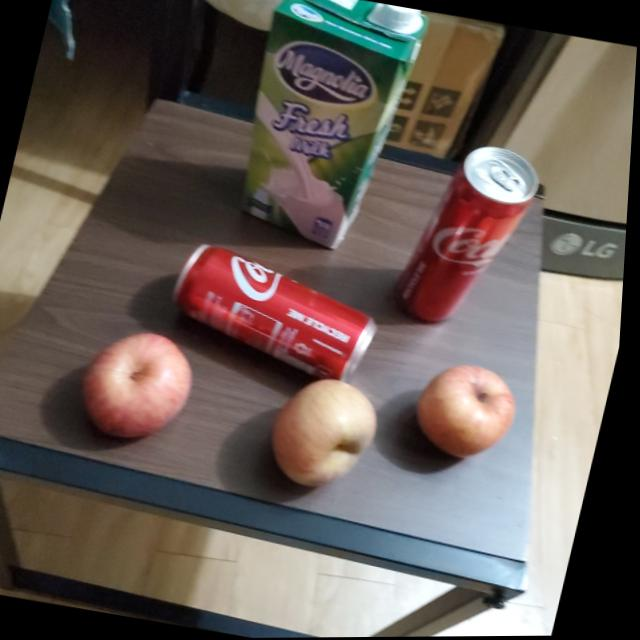apple: (76, 323, 205, 448), (266, 369, 390, 495), (414, 356, 533, 466)
coke: (164, 236, 394, 384), (391, 138, 549, 339)
milk: (222, 0, 433, 260)
